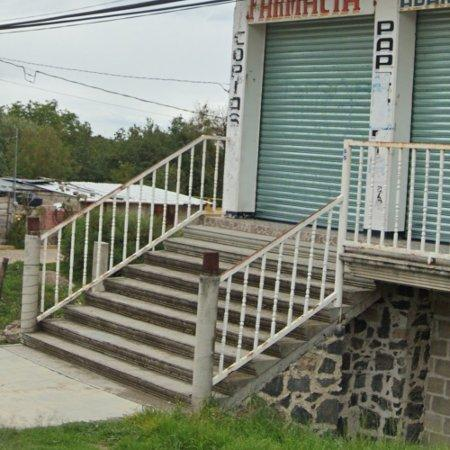stairs: (23, 198, 376, 402)
